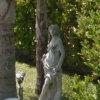Statue: (34, 20, 76, 100)
